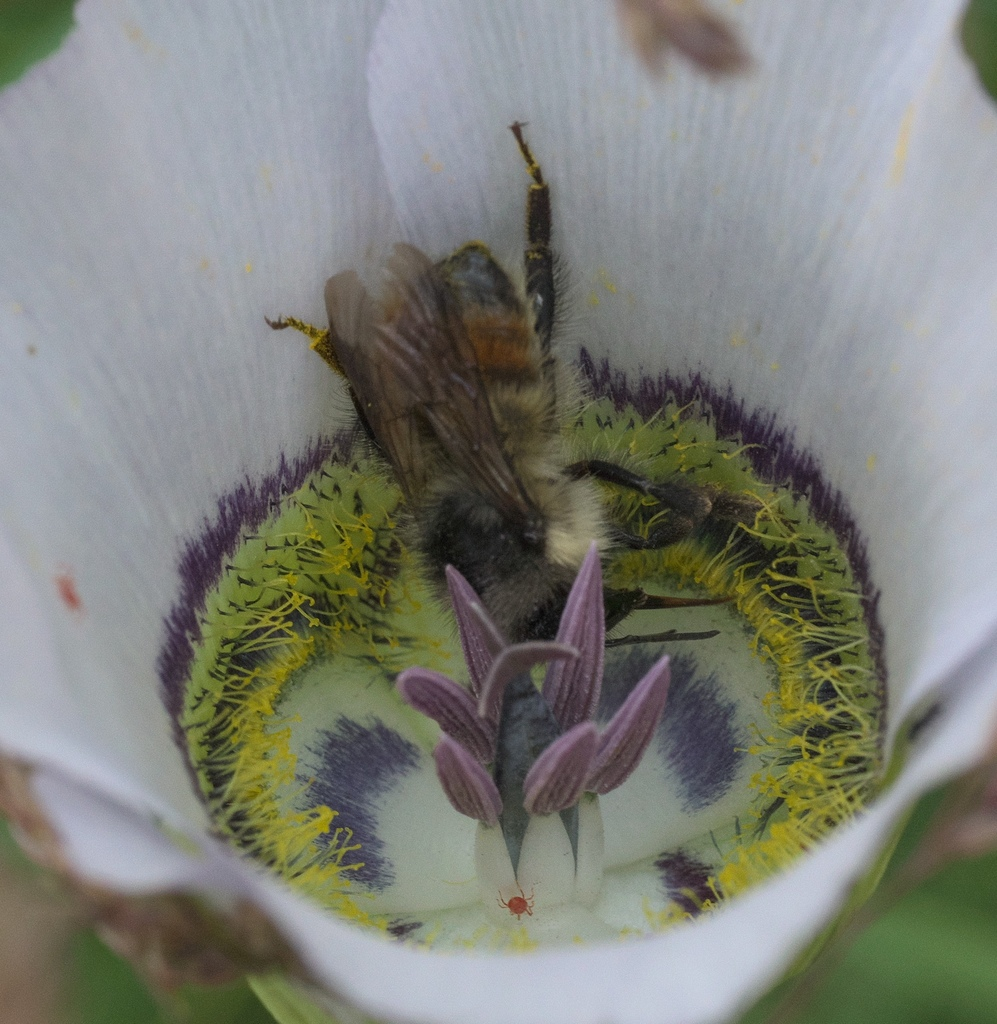bumblebee: (263, 117, 741, 667)
